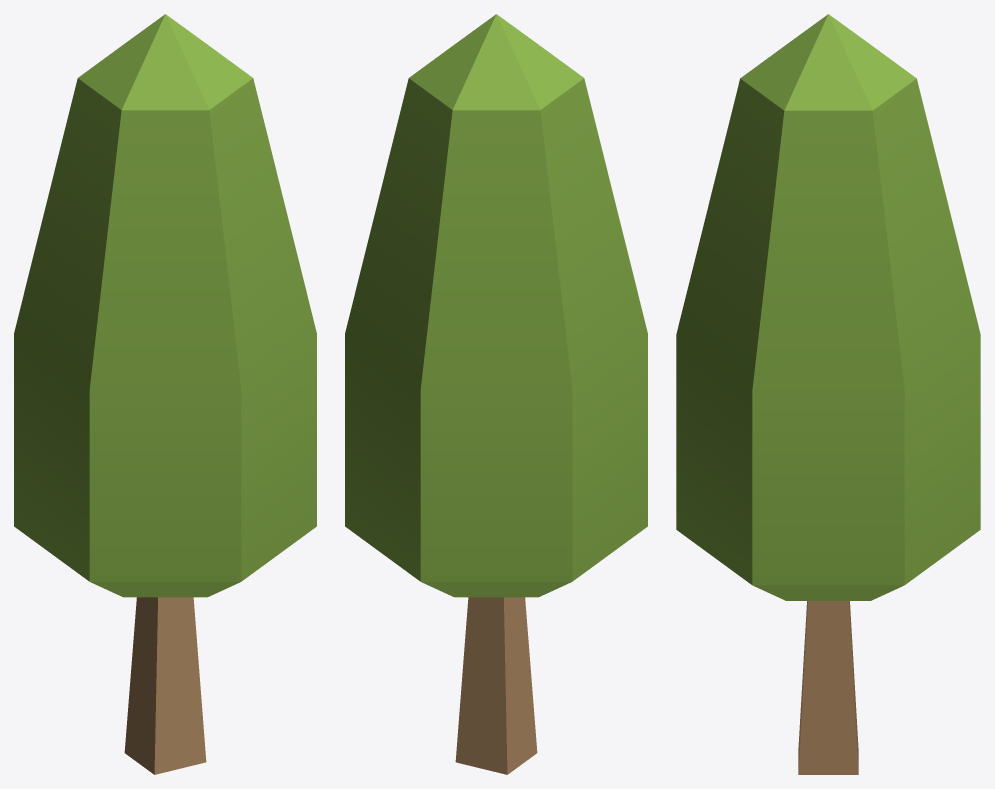
File: roadTile_019.fbx
The picture shows the model from 3 angles, left to right: view 1: azimuth 30°, elevation 25°; view 2: azimuth 150°, elevation 25°; view 3: azimuth 270°, elevation 25°; orthographic projection.
Parts seen in each view (by area): view 1: roadTile_019; view 2: roadTile_019; view 3: roadTile_019.
Part boxes in pixels (box(x1,y1,x2,y2)): roadTile_019: box(14, 14, 316, 774); roadTile_019: box(345, 14, 647, 774); roadTile_019: box(676, 14, 980, 774).
Bounding box in the file's own units: 31.83 × 99.64 × 36.76.
